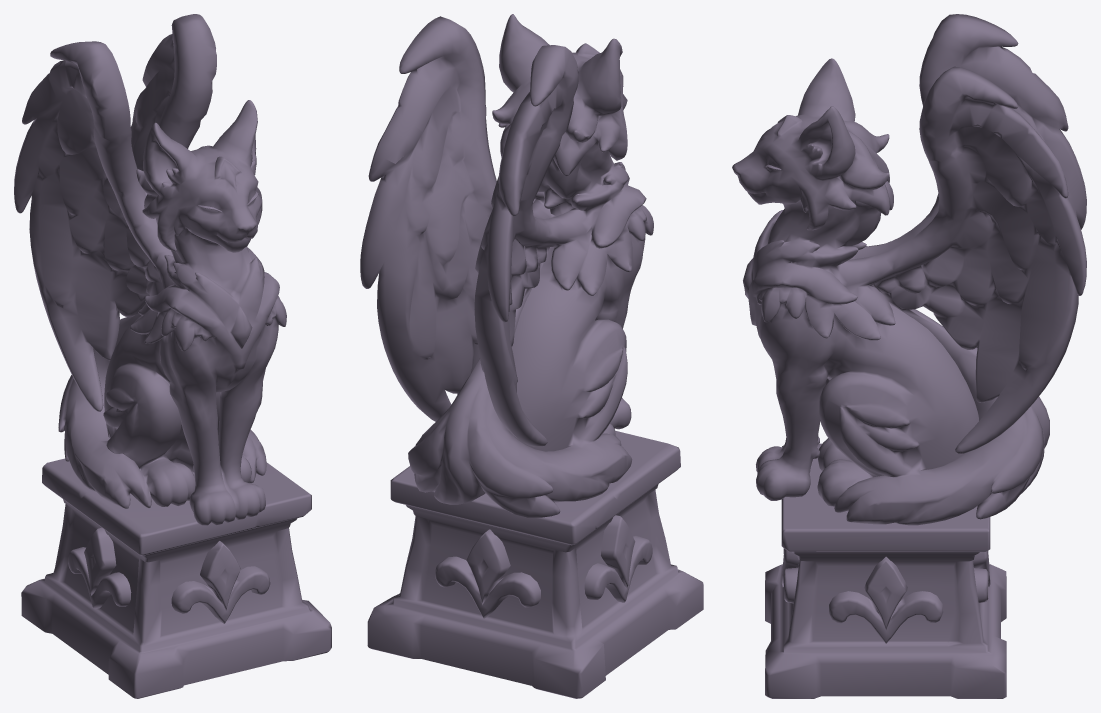
Rendered from catgoyle_3d_model.glb.
3 renders of one model, left to right at view 1: azimuth 30°, elevation 25°; view 2: azimuth 150°, elevation 25°; view 3: azimuth 270°, elevation 25°, orthographic. The views are drawn at different scales.
Visible parts, largest first — view 1: tripo_node_876c70e3; view 2: tripo_node_876c70e3; view 3: tripo_node_876c70e3.
Boxes of the visible parts, x1,y1,x2,y2 form: tripo_node_876c70e3: [14, 14, 331, 698]; tripo_node_876c70e3: [360, 14, 703, 698]; tripo_node_876c70e3: [732, 14, 1086, 698].
Bounding box in the file's own units: 0.3618 × 0.9995 × 0.5317.
